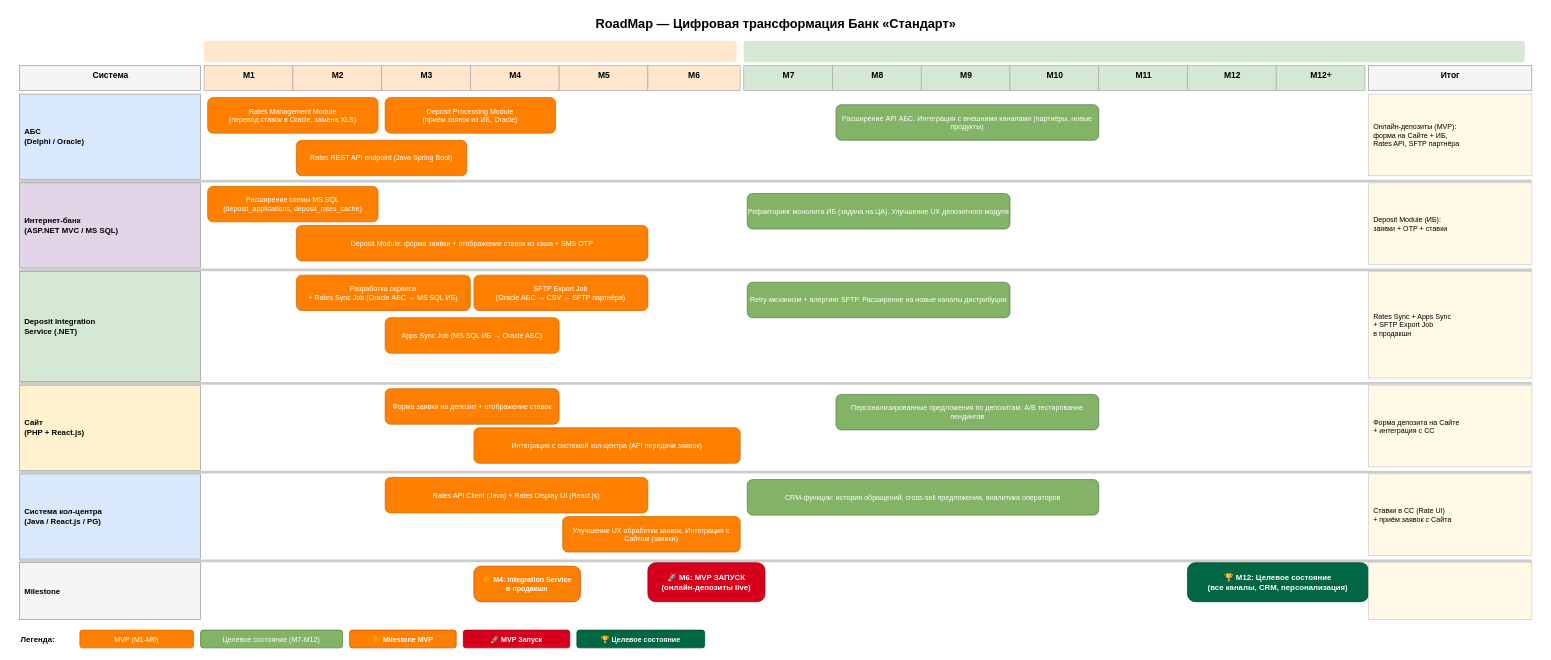
The diagram is 1551 pixels wide and 660 high, and some of its shapes have lost their labels. The shapes that lost their labels are listed below. From the top down, each one's centre as x and y in pixels, then its label:
At point 470,51: "MVP (6 месяцев)".
At point 1133,51: "Целевое состояние (год)".
